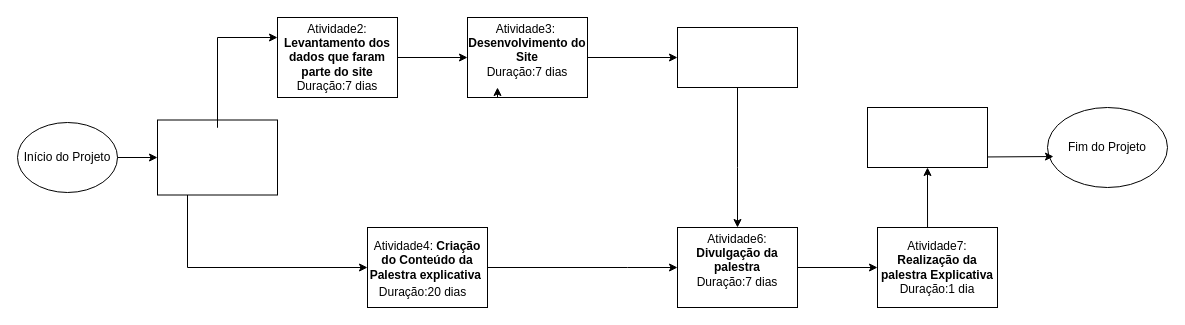
This 1185x325 diagram has some shape labels left out. The shapes that lost their labels are listed below. From the top down, each one's centre as x and y in pixels, then its label:
[737,57]: Atividade5: Reajustes no site Duração:2 dias
[217,157]: Atividade1: Levantamento dos dados que faram parte do projeto Duração: 30 dias
[927,137]: Atividade8: Avaliação do Relatório Final Duração:20 dias
